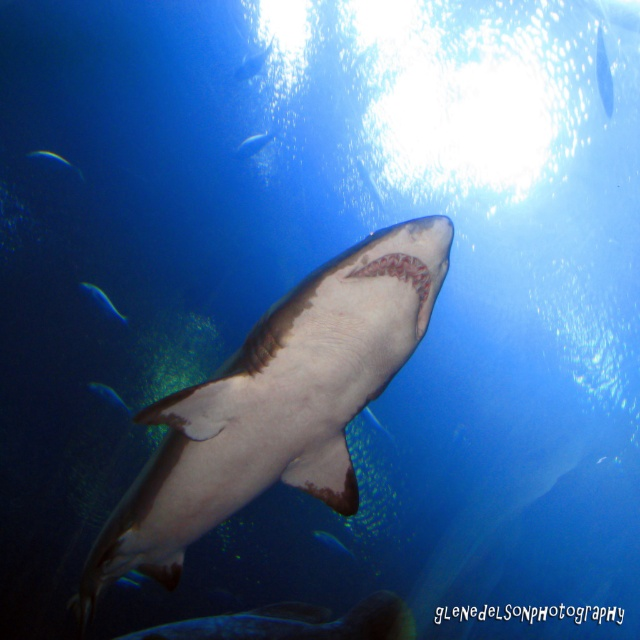Shark: (82, 215, 458, 619)
